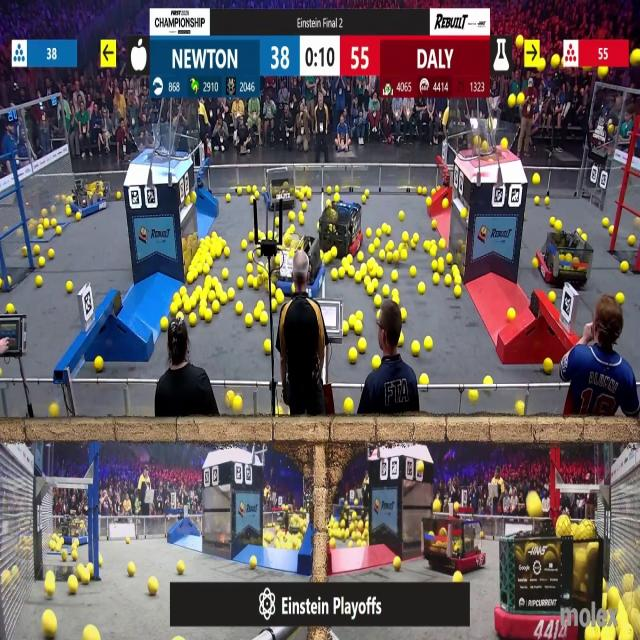ball_airborne: (528, 492, 540, 516), (632, 48, 640, 64), (598, 66, 608, 78), (417, 460, 425, 472), (507, 96, 515, 108), (537, 59, 545, 71), (482, 140, 490, 152), (552, 57, 560, 69), (517, 94, 525, 105), (517, 36, 524, 48), (500, 139, 507, 150), (608, 125, 614, 135), (472, 138, 478, 146)
ball_ground: (42, 613, 56, 639), (86, 626, 99, 640), (148, 579, 157, 597), (542, 358, 552, 373), (44, 581, 54, 596), (69, 578, 78, 594), (357, 339, 366, 354), (345, 398, 354, 413), (350, 348, 358, 364), (95, 356, 104, 370), (424, 338, 433, 351), (177, 560, 185, 574), (265, 341, 273, 355), (517, 403, 525, 417), (453, 570, 462, 582), (413, 342, 420, 357), (162, 317, 170, 330), (49, 406, 57, 419), (129, 562, 137, 575), (468, 389, 476, 402), (81, 571, 89, 584), (235, 396, 242, 410), (226, 390, 233, 404), (382, 285, 390, 297), (188, 314, 196, 326), (418, 282, 426, 294), (374, 356, 382, 368), (182, 302, 190, 314), (354, 272, 362, 284), (438, 262, 446, 274), (219, 292, 227, 304), (432, 500, 440, 512), (250, 556, 257, 569), (237, 303, 244, 316), (246, 314, 253, 327), (355, 321, 362, 334), (587, 629, 596, 639), (212, 303, 220, 314), (394, 558, 401, 570), (36, 276, 43, 288), (507, 310, 514, 322), (622, 262, 629, 274), (171, 304, 178, 316), (227, 288, 234, 300), (205, 311, 212, 323), (262, 314, 269, 326), (454, 286, 462, 296), (628, 236, 636, 246), (454, 276, 462, 286), (204, 278, 212, 288), (252, 280, 260, 290), (618, 292, 625, 303), (550, 291, 557, 302), (421, 375, 428, 386), (238, 278, 245, 289), (323, 253, 330, 264), (247, 276, 254, 287), (384, 223, 391, 234), (67, 281, 73, 293), (376, 294, 382, 306), (400, 310, 406, 322), (432, 274, 438, 286), (378, 268, 384, 280), (6, 304, 13, 314), (221, 270, 228, 280), (186, 274, 193, 284), (387, 241, 394, 251), (485, 376, 492, 386), (348, 268, 355, 278), (357, 252, 364, 262), (399, 250, 406, 260), (446, 276, 453, 286), (392, 251, 399, 261), (430, 246, 437, 256), (211, 278, 218, 288), (257, 232, 264, 242), (190, 297, 197, 307), (460, 209, 467, 219), (331, 270, 337, 281), (412, 267, 418, 278), (340, 269, 346, 280), (39, 256, 45, 267), (272, 301, 278, 312), (380, 249, 386, 260), (556, 219, 562, 230), (533, 173, 539, 184), (256, 302, 264, 310), (363, 277, 370, 286), (360, 265, 367, 274), (392, 272, 398, 282), (444, 200, 450, 210), (398, 336, 403, 348), (402, 233, 408, 243), (47, 249, 53, 259), (249, 232, 255, 242), (432, 262, 438, 272), (426, 198, 432, 208), (366, 285, 372, 295), (222, 248, 228, 258), (387, 251, 393, 261), (276, 288, 282, 298), (209, 290, 215, 300), (551, 217, 557, 227), (50, 218, 56, 228), (44, 218, 50, 228), (440, 240, 447, 248), (298, 213, 303, 224), (344, 322, 349, 333), (34, 246, 40, 255), (242, 241, 248, 250), (356, 312, 362, 321), (66, 207, 72, 216), (204, 266, 210, 275), (375, 240, 381, 249), (452, 266, 458, 275), (72, 552, 78, 561), (289, 223, 295, 232), (303, 203, 309, 212), (38, 230, 44, 239), (307, 190, 313, 199), (348, 254, 354, 263), (62, 553, 68, 562), (335, 192, 341, 201), (452, 502, 458, 511), (89, 563, 95, 572), (448, 254, 453, 264), (331, 248, 336, 258), (535, 260, 540, 270), (424, 242, 429, 252), (398, 211, 403, 221), (330, 538, 335, 548), (247, 266, 253, 274), (602, 218, 608, 226), (180, 286, 186, 294), (288, 212, 294, 220), (413, 234, 419, 242), (365, 230, 371, 238), (187, 266, 193, 274), (23, 248, 29, 256), (208, 256, 214, 264), (264, 272, 270, 280), (238, 187, 244, 195), (247, 185, 253, 193), (608, 224, 613, 233), (248, 252, 253, 261), (394, 294, 399, 303), (279, 409, 284, 418), (636, 216, 640, 227), (411, 242, 417, 249), (422, 187, 428, 194), (431, 220, 436, 228), (269, 232, 274, 240), (57, 226, 62, 234), (537, 198, 542, 206), (368, 246, 373, 254), (225, 193, 230, 201), (99, 558, 104, 566), (257, 266, 262, 274), (377, 230, 382, 238), (0, 279, 4, 289), (371, 279, 376, 287), (584, 234, 589, 242), (326, 185, 331, 193), (250, 194, 255, 202), (276, 217, 280, 226), (76, 212, 80, 221), (127, 536, 133, 542), (418, 186, 423, 193), (328, 201, 333, 208), (399, 243, 404, 250), (349, 540, 354, 547), (342, 259, 347, 266), (544, 198, 548, 206), (0, 368, 4, 376), (7, 277, 11, 285), (361, 194, 365, 202), (320, 249, 324, 257), (576, 227, 581, 233), (116, 191, 120, 198), (255, 191, 259, 198), (431, 188, 435, 195), (256, 250, 260, 256)
goal: (468, 123, 523, 161), (130, 129, 189, 160)
robot_blue: (270, 236, 324, 300), (72, 176, 110, 216), (267, 168, 297, 211), (61, 517, 88, 547)
robot_red: (494, 526, 603, 636), (420, 516, 487, 572), (539, 229, 591, 290), (318, 201, 363, 255)
